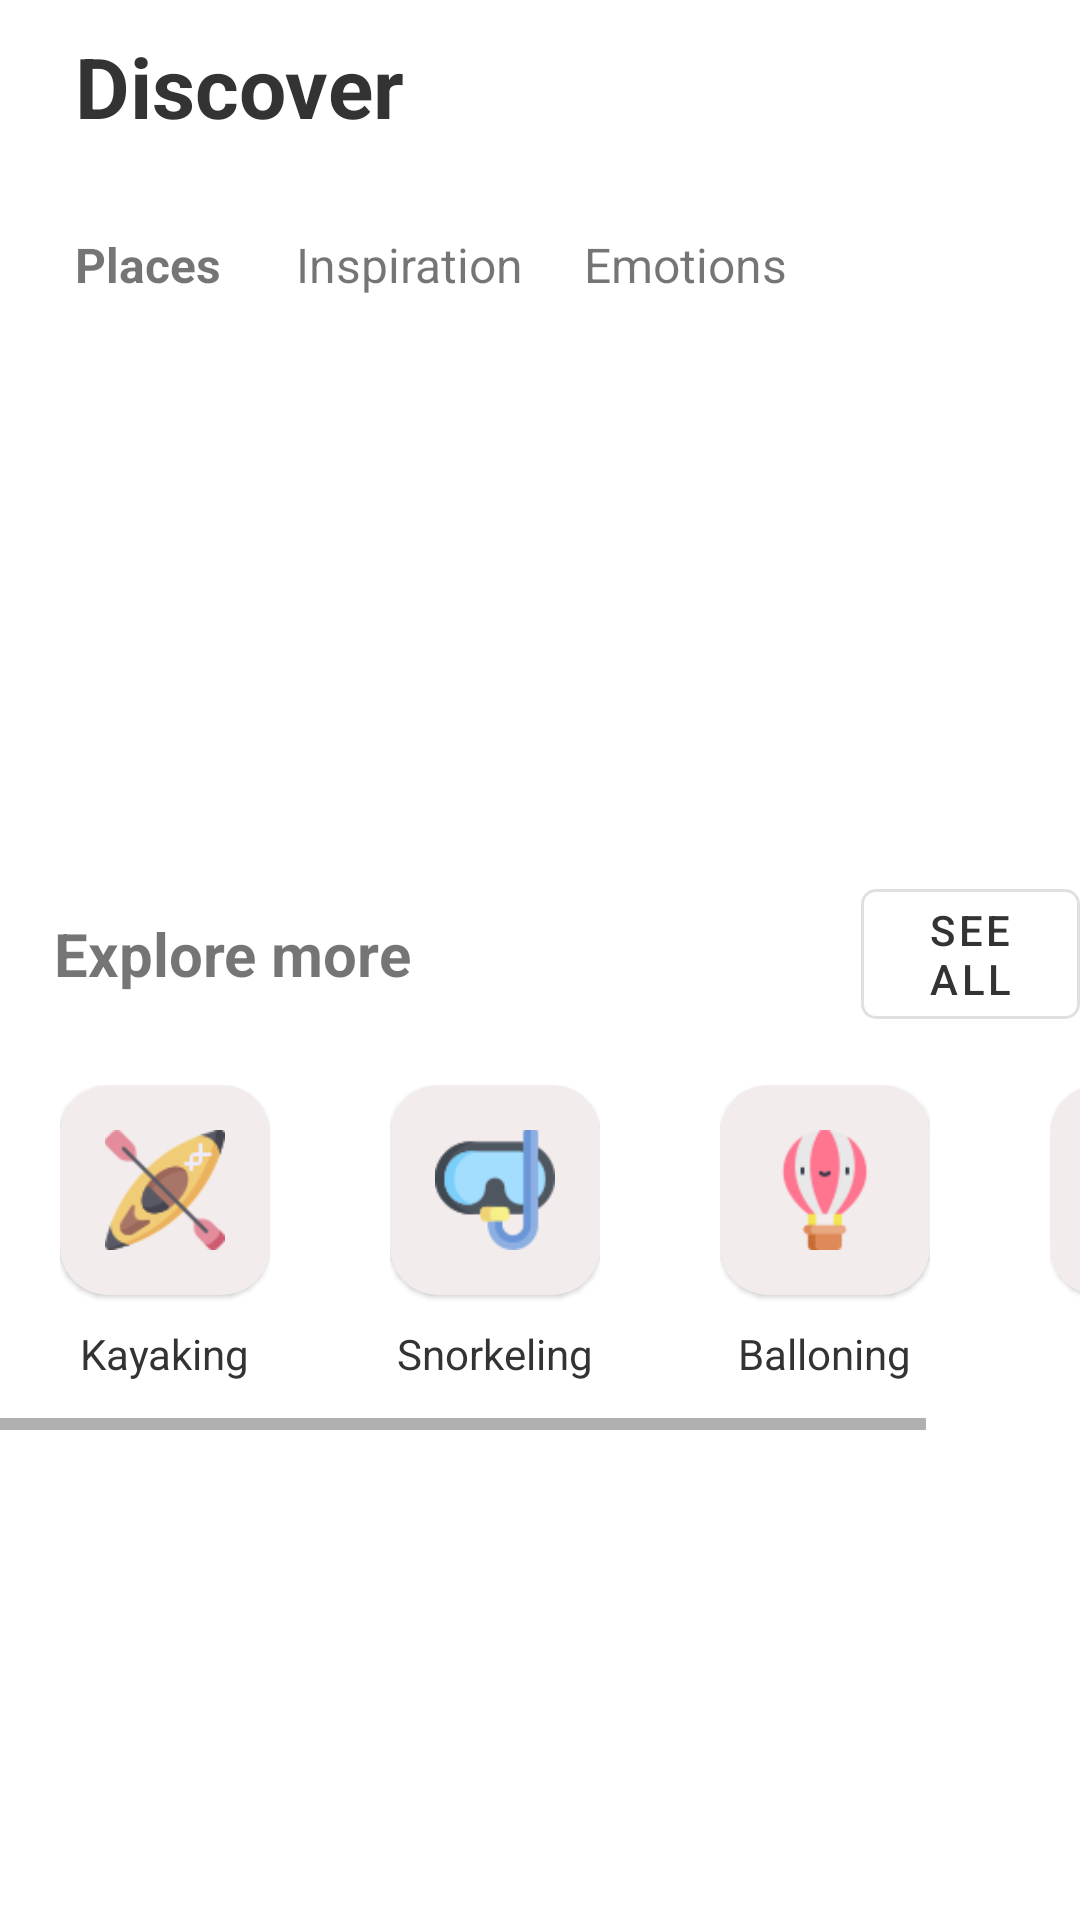

Where icons sit on this 1080w x 1920h app screen, as (x1, y1, x2, y2):
air hot balloon: (783, 1130, 867, 1250)
